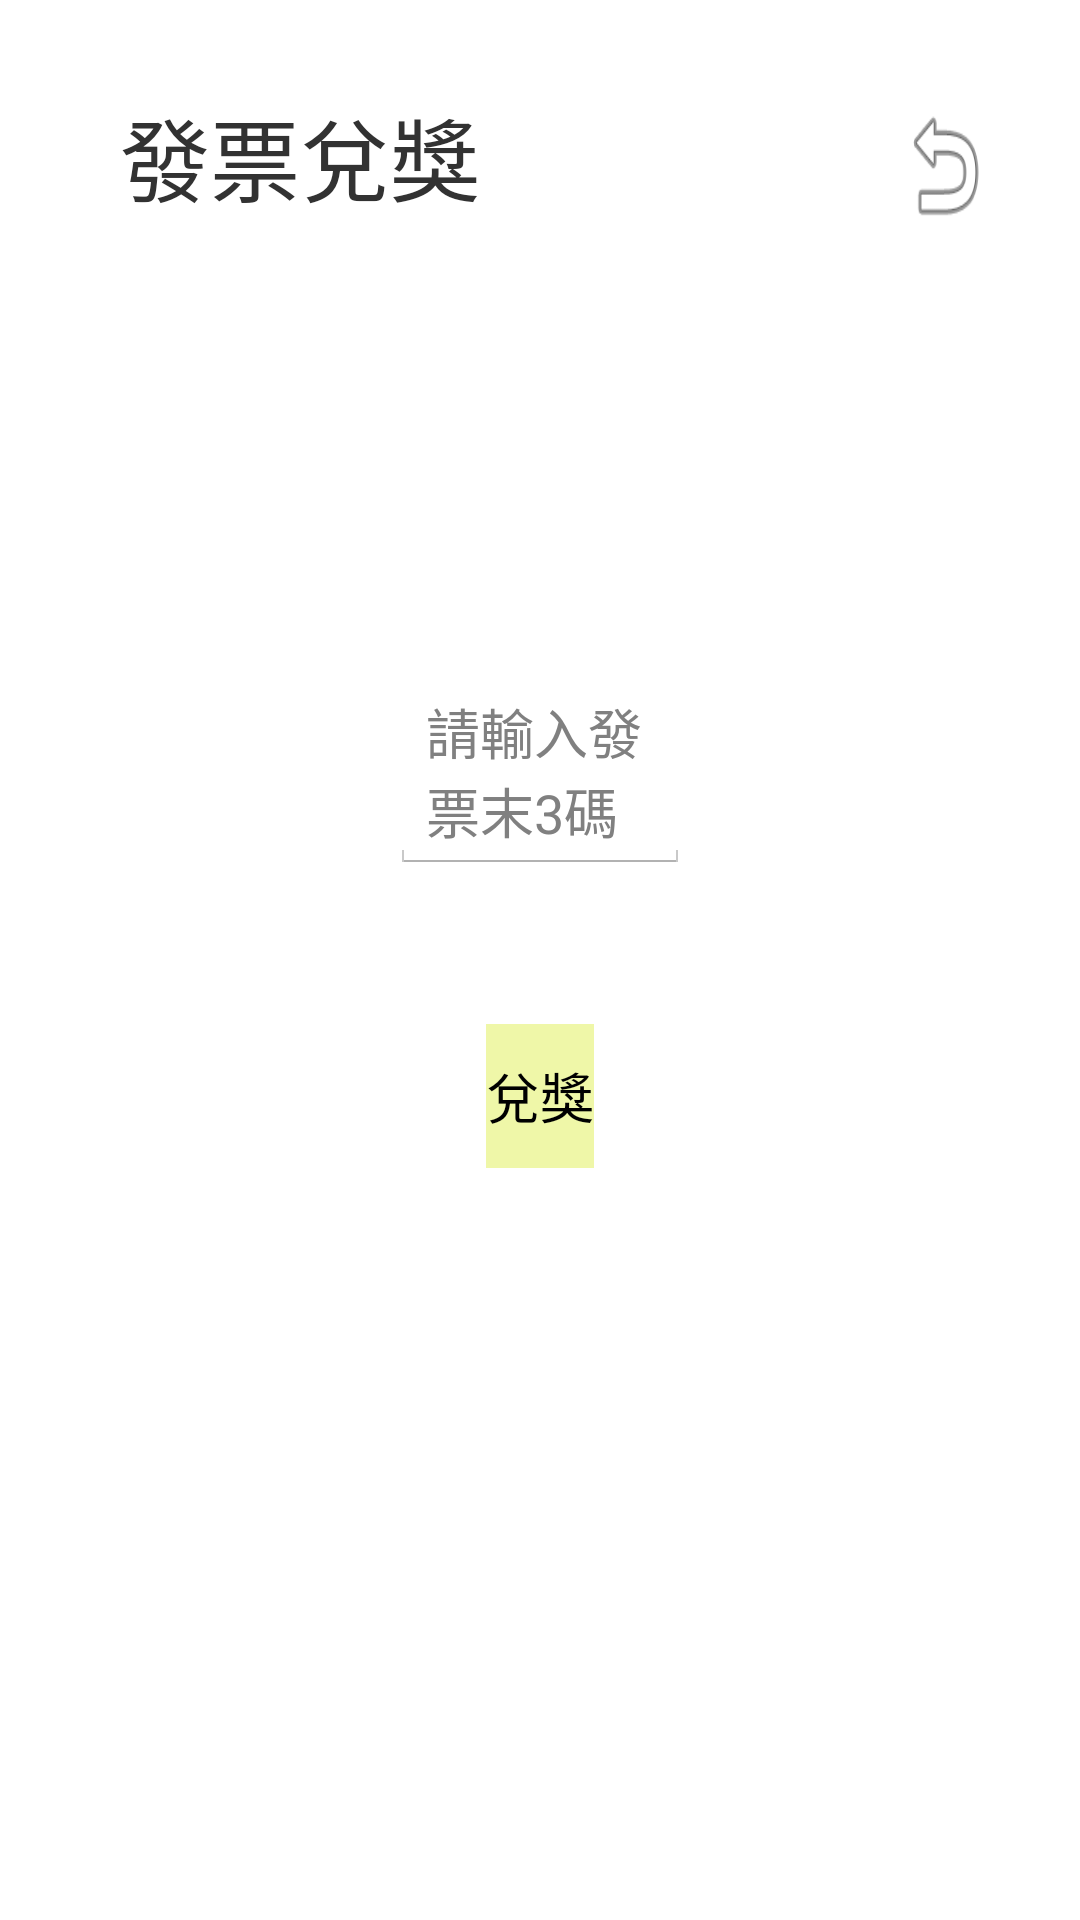

Icons on this 1080px×1920px Android screen, each with its box as Rect(x1, y1, x2, y2):
revert: Rect(914, 117, 979, 215)
